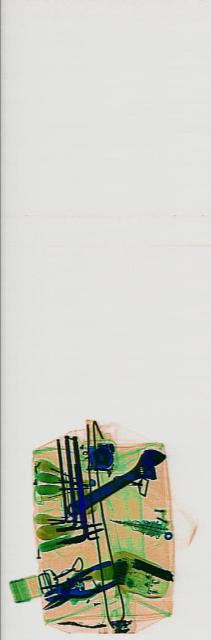Pliers: (43, 554, 116, 612), (38, 560, 100, 616)
Wrench: (64, 436, 165, 532)
